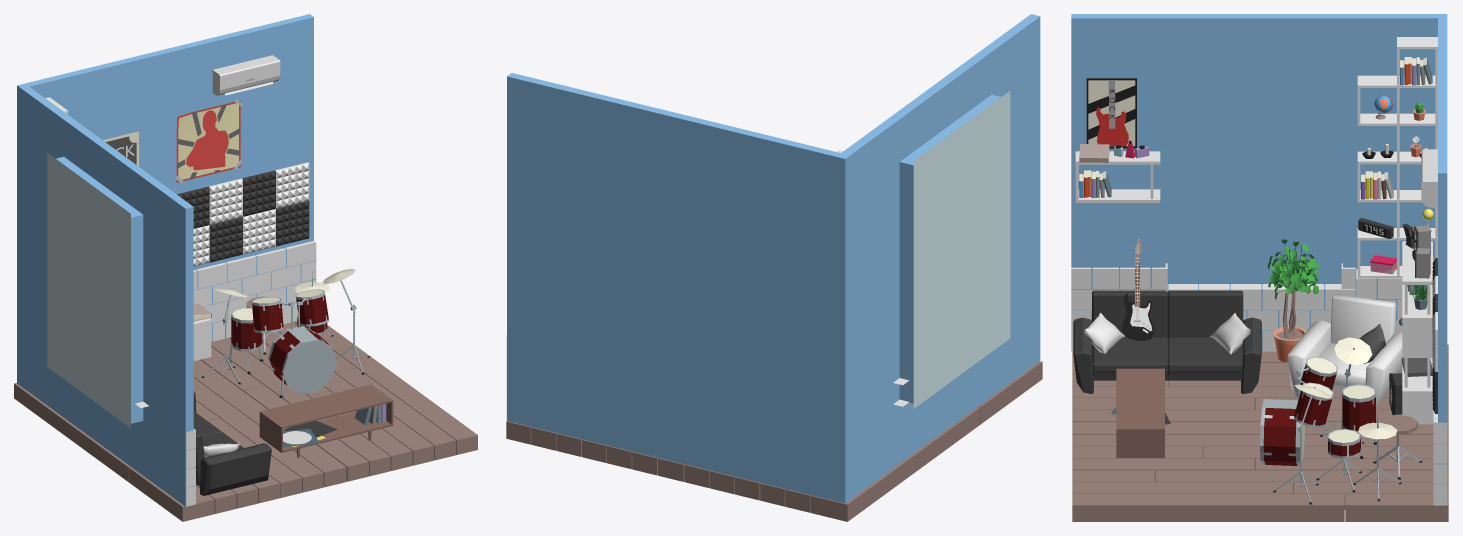
The model's file is FinalRoom.glb.
3 renders of one model, left to right at view 1: azimuth 30°, elevation 25°; view 2: azimuth 150°, elevation 25°; view 3: azimuth 270°, elevation 25°, orthographic. The views are drawn at different scales.
Visible parts, largest first — view 1: low_poly_interior.1285, low_poly_interior.1284, low_poly_interior.1287, low_poly_interior.1291, low_poly_interior.476, low_poly_interior.1288, low_poly_interior.694, low_poly_interior.874, low_poly_interior.477, low_poly_interior.480, low_poly_interior.485, low_poly_interior.872; view 2: low_poly_interior.1285, low_poly_interior.1287, low_poly_interior.1284; view 3: low_poly_interior.1285, low_poly_interior.1284, low_poly_interior.477, low_poly_interior.476, low_poly_interior.1288, low_poly_interior.923, low_poly_interior.478, low_poly_interior.694, low_poly_interior.479, low_poly_interior.873, low_poly_interior.737, low_poly_interior.485 (+10 smaller).
Boxes of the visible parts, bbox=[...] form: low_poly_interior.1285: bbox=[17, 14, 313, 506]; low_poly_interior.1284: bbox=[14, 321, 477, 521]; low_poly_interior.1287: bbox=[47, 153, 130, 427]; low_poly_interior.1291: bbox=[177, 162, 309, 266]; low_poly_interior.476: bbox=[201, 268, 370, 397]; low_poly_interior.1288: bbox=[135, 241, 316, 506]; low_poly_interior.694: bbox=[259, 384, 393, 457]; low_poly_interior.874: bbox=[175, 99, 242, 183]; low_poly_interior.477: bbox=[193, 391, 271, 495]; low_poly_interior.480: bbox=[212, 55, 280, 95]; low_poly_interior.485: bbox=[193, 318, 211, 360]; low_poly_interior.872: bbox=[103, 131, 138, 166]; low_poly_interior.1285: bbox=[507, 14, 1040, 503]; low_poly_interior.1287: bbox=[913, 90, 1010, 408]; low_poly_interior.1284: bbox=[506, 361, 1042, 521]; low_poly_interior.1285: bbox=[1071, 14, 1447, 484]; low_poly_interior.1284: bbox=[1072, 344, 1448, 521]; low_poly_interior.477: bbox=[1073, 290, 1261, 393]; low_poly_interior.476: bbox=[1260, 337, 1422, 504]; low_poly_interior.1288: bbox=[1071, 263, 1447, 505]; low_poly_interior.923: bbox=[1357, 37, 1437, 278]; low_poly_interior.478: bbox=[1287, 294, 1402, 406]; low_poly_interior.694: bbox=[1110, 368, 1170, 458]; low_poly_interior.479: bbox=[1402, 241, 1432, 424]; low_poly_interior.873: bbox=[1086, 78, 1136, 148]; low_poly_interior.737: bbox=[1267, 239, 1320, 362]; low_poly_interior.485: bbox=[1075, 151, 1160, 202].
Size of the model in its own units: 4.32 by 4.2 by 4.12.
Materials: 1 (1 with a texture image).
